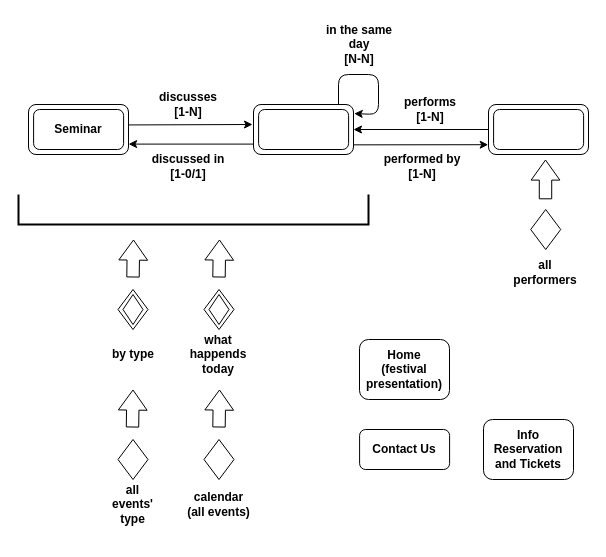
Some shapes in this 606 by 557 pixel diagram are drawn without their labels. Each missing label, with the centre of its shape:
Artistic Event: (303,129)
Performer: (538,129)
